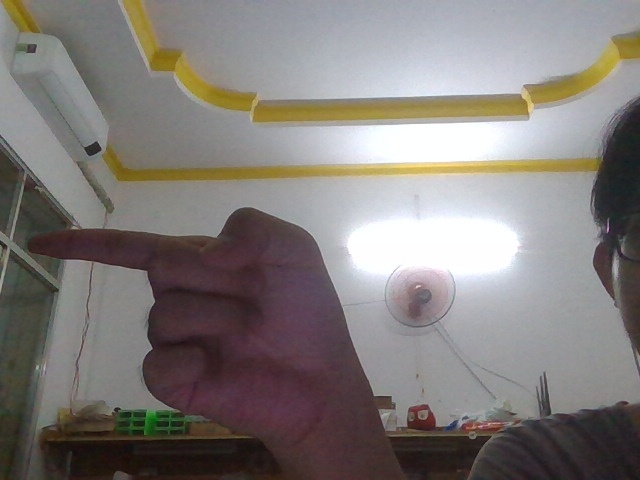turn_right: (23, 201, 392, 443)
